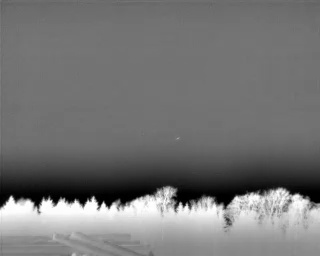BIRD: (174, 134, 181, 143)
